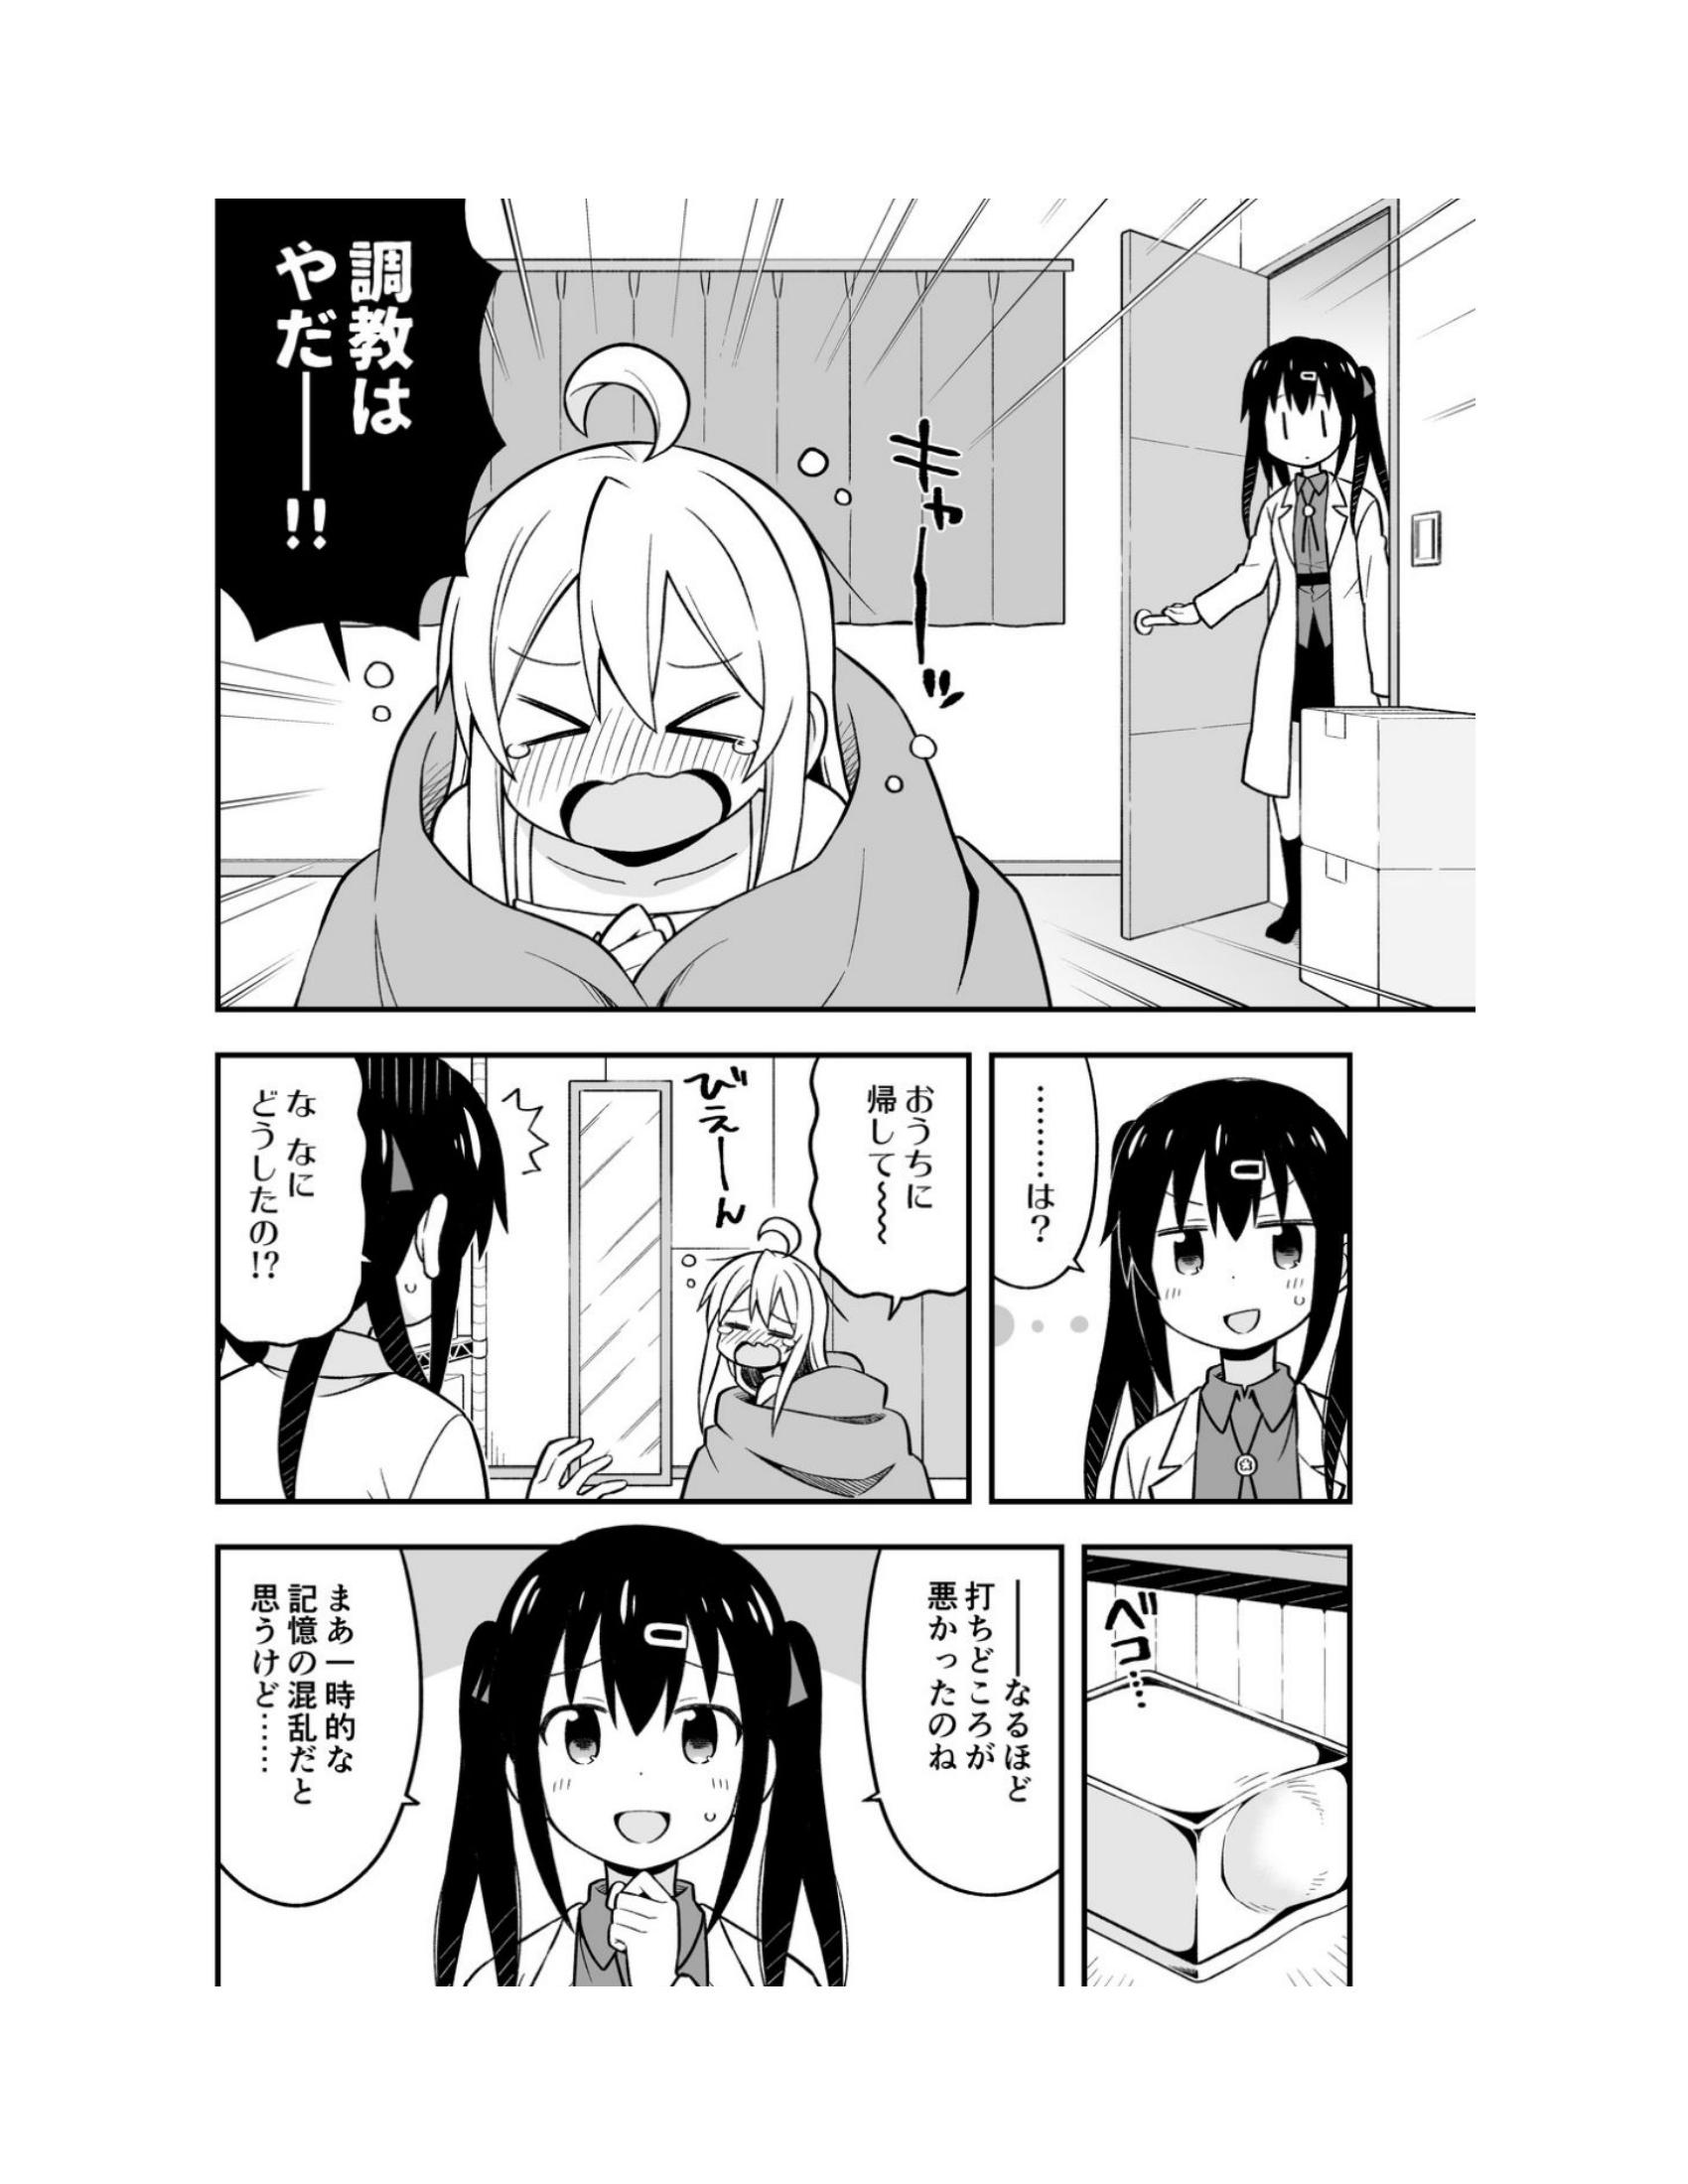a: (223, 206, 489, 697), (844, 1540, 1103, 1911), (204, 1544, 429, 1915), (998, 1049, 1174, 1367), (220, 1053, 388, 1356), (803, 1037, 979, 1308)
